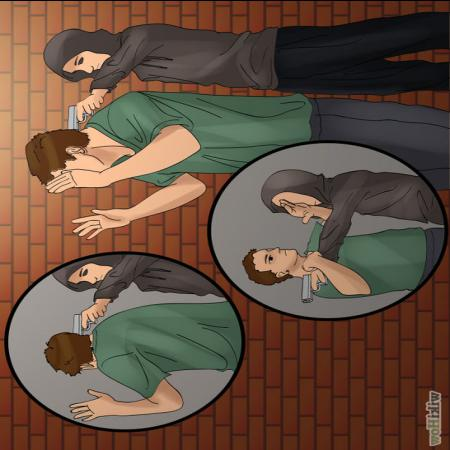Pistol: (293, 258, 337, 302), (58, 93, 104, 135), (67, 304, 108, 333)
